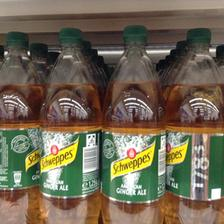Soda: (99, 25, 165, 224), (40, 27, 102, 223), (166, 25, 222, 223), (0, 31, 40, 223)
